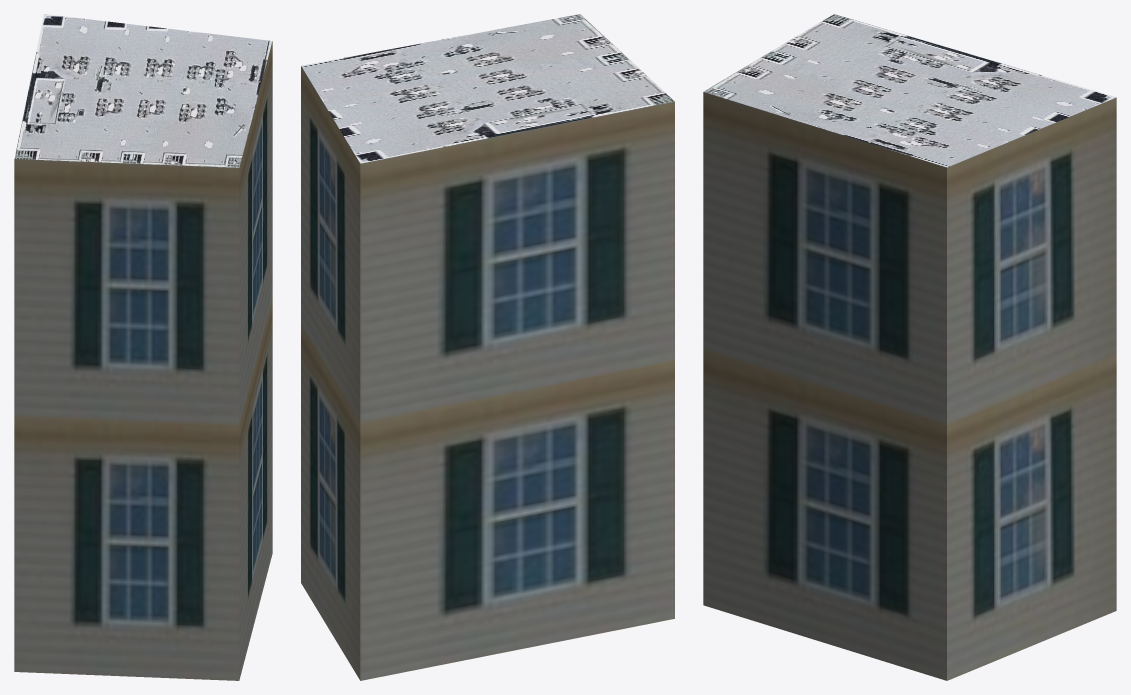
Rendered from ResTex__1127.fbx.
3 views of the same model, side by side, from view 1: azimuth 30°, elevation 25°; view 2: azimuth 150°, elevation 25°; view 3: azimuth 270°, elevation 25° (orthographic).
Parts seen in each view (by area): view 1: CityEngineMaterial_7_m, CityEngineMaterial_m; view 2: CityEngineMaterial_7_m, CityEngineMaterial_m; view 3: CityEngineMaterial_7_m, CityEngineMaterial_m.
Part boxes in pixels (left/top/right/bottom): CityEngineMaterial_7_m: left=14, top=41, right=272, bottom=680; CityEngineMaterial_m: left=14, top=14, right=272, bottom=167; CityEngineMaterial_7_m: left=301, top=66, right=674, bottom=680; CityEngineMaterial_m: left=301, top=14, right=674, bottom=163; CityEngineMaterial_7_m: left=703, top=92, right=1116, bottom=680; CityEngineMaterial_m: left=703, top=14, right=1116, bottom=167.
Bounding box in the file's own units: 3.85 × 6 × 4.38.
2 materials, 2 textured.
